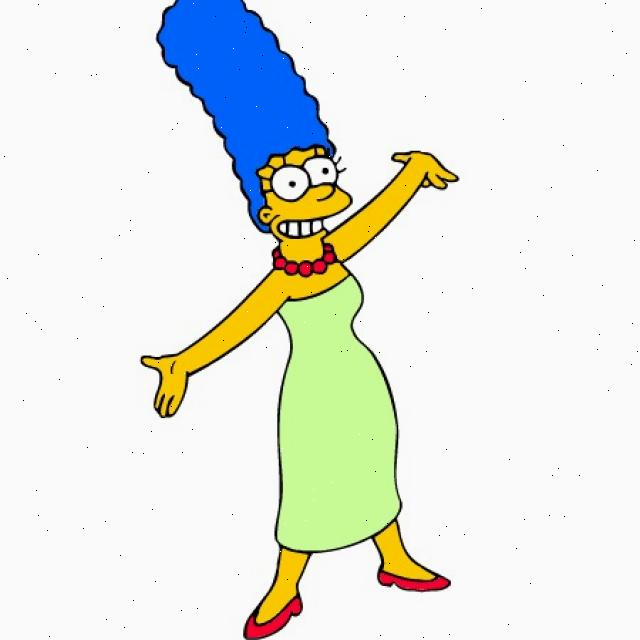Marge Simpson: (151, 0, 354, 284)
